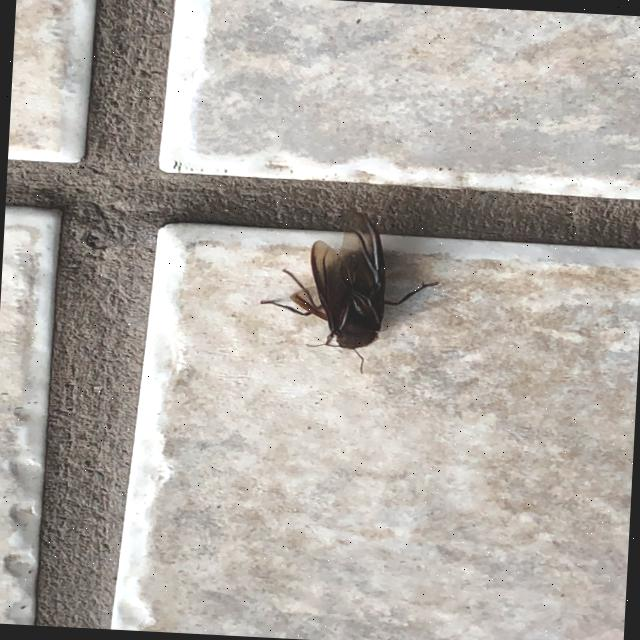Alive-Female-Alate: (256, 205, 444, 378)
